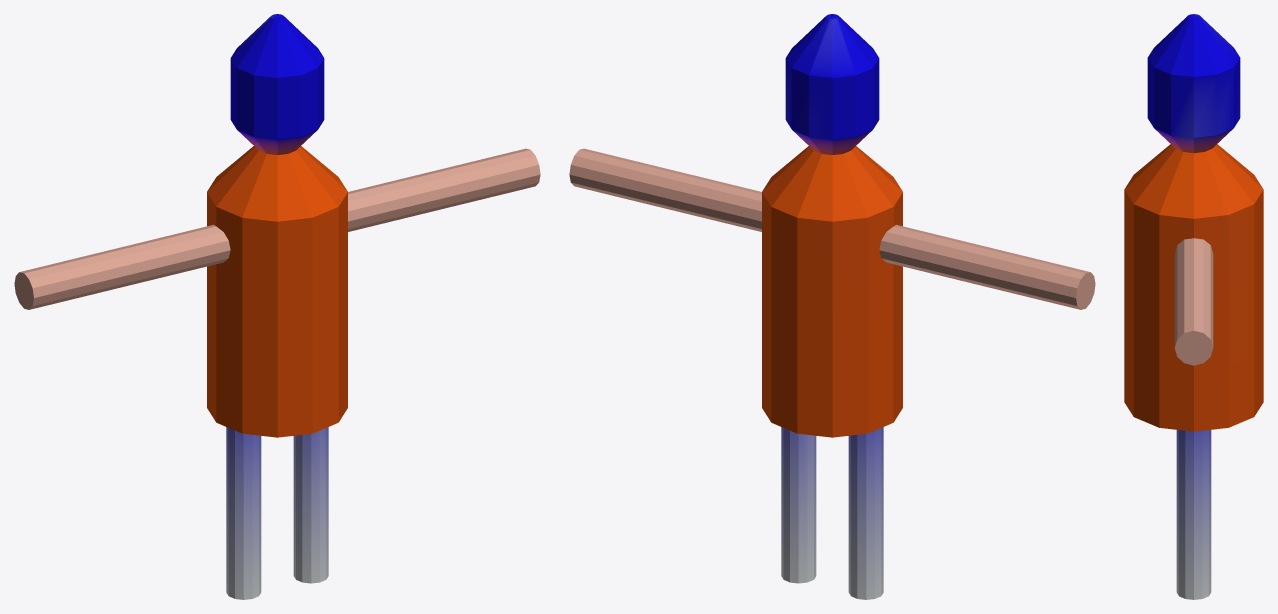
The model's file is man.glb.
3 views of the same model, side by side, from view 1: azimuth 30°, elevation 25°; view 2: azimuth 150°, elevation 25°; view 3: azimuth 270°, elevation 25° (orthographic).
Parts seen in each view (by area): view 1: Cylinder; view 2: Cylinder; view 3: Cylinder.
Part boxes in pixels (<box>): Cylinder: <box>14,14,540,599</box>; Cylinder: <box>569,14,1095,599</box>; Cylinder: <box>1124,14,1263,599</box>.
Bounding box in the file's own units: 1.56 × 1.67 × 0.3774.
